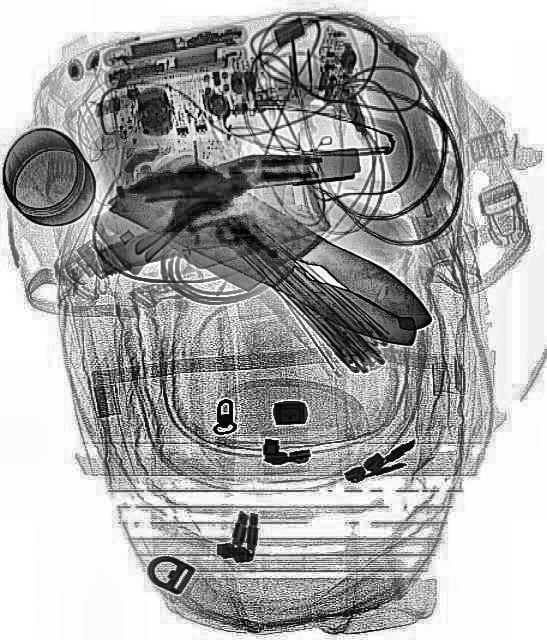Knife: (106, 119, 438, 388), (108, 130, 440, 356)
